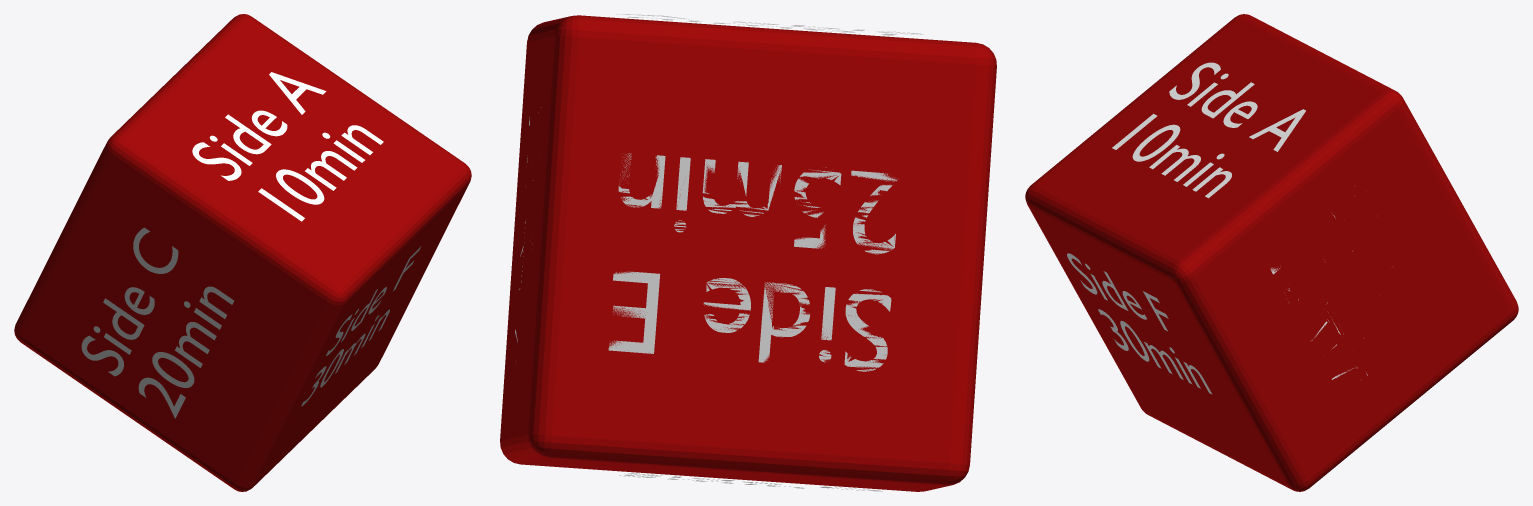
The model's file is tomato-timer.obj.
The picture shows the model from 3 angles, left to right: view 1: azimuth 30°, elevation 25°; view 2: azimuth 150°, elevation 25°; view 3: azimuth 270°, elevation 25°; orthographic projection. The views are drawn at different scales.
Parts seen in each view (by area): view 1: Cube_Red_Plastic, Cube_, Cube_White_Text.002; view 2: Cube_Red_Plastic, Cube_, Cube_White_Text.002; view 3: Cube_Red_Plastic, Cube_White_Text.002, Cube_.
Part boxes in pixels (<box>): Cube_Red_Plastic: <box>14,14,471,491</box>; Cube_: <box>81,227,421,418</box>; Cube_White_Text.002: <box>192,72,383,221</box>; Cube_Red_Plastic: <box>500,15,996,491</box>; Cube_: <box>608,153,897,491</box>; Cube_White_Text.002: <box>616,14,923,35</box>; Cube_Red_Plastic: <box>1025,14,1518,491</box>; Cube_White_Text.002: <box>1112,62,1305,198</box>; Cube_: <box>1067,253,1212,394</box>.
Size of the model in its own units: 2.93 by 2.76 by 3.23.
